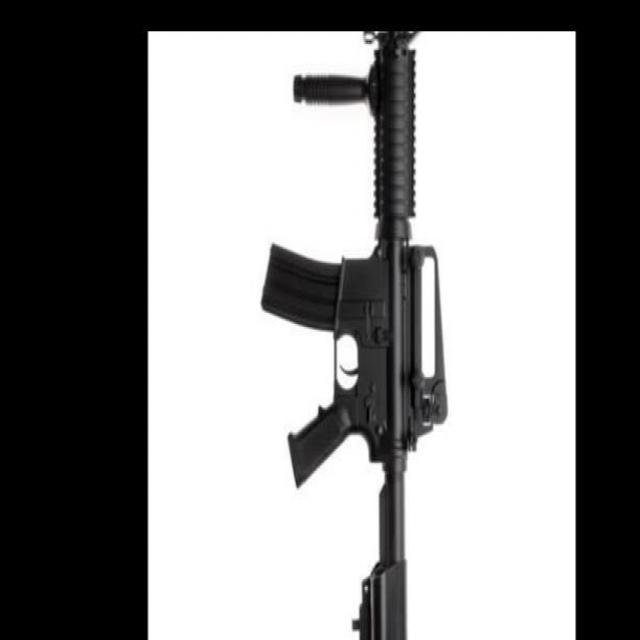weapon: (261, 31, 448, 640)
